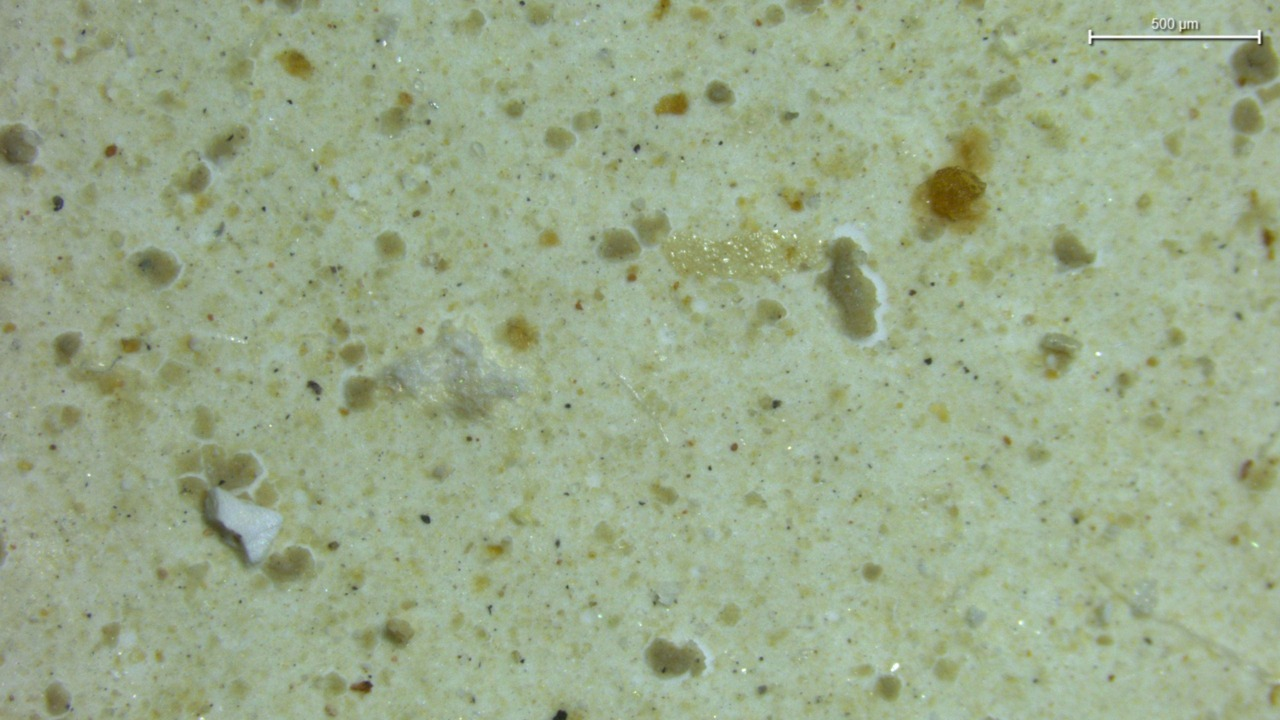microplastic_fragment: (376, 327, 527, 417), (205, 487, 282, 564)
